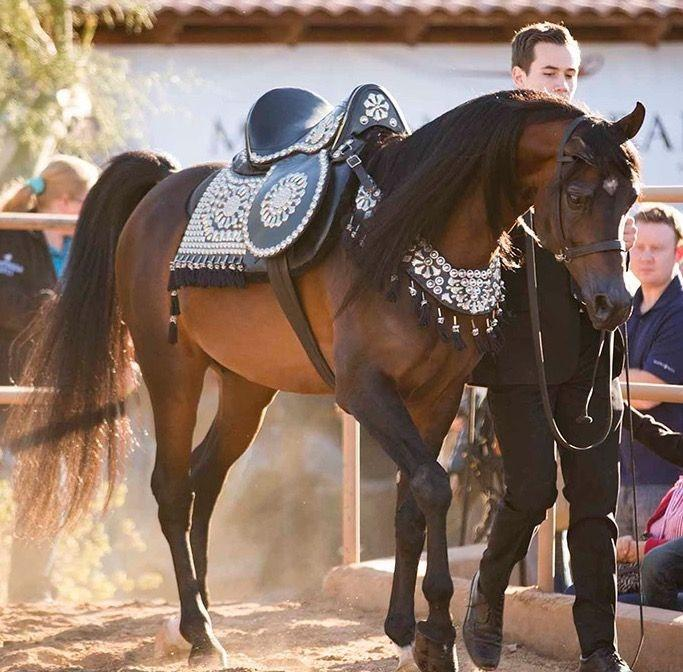horse: (1, 86, 645, 671)
